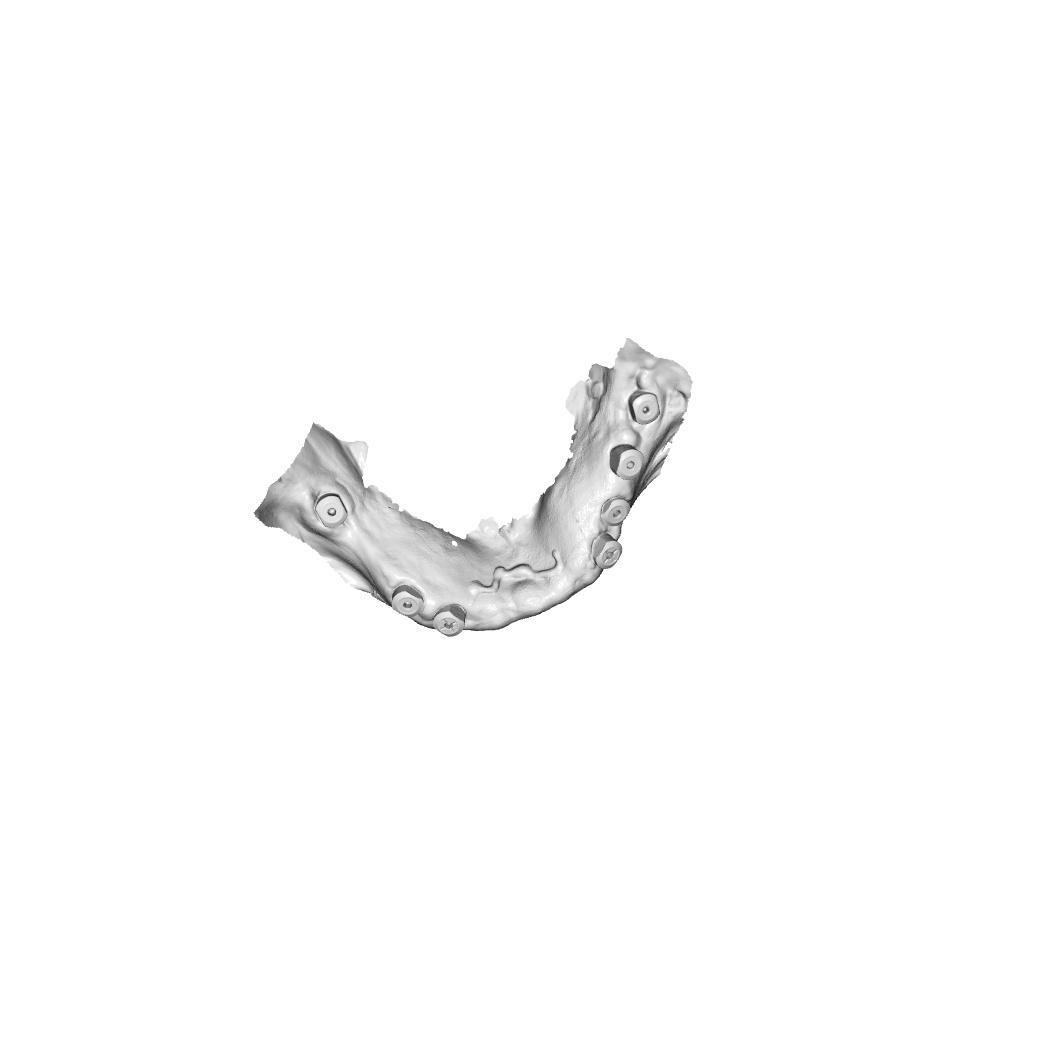implant: (608, 443, 645, 482), (313, 491, 349, 529), (628, 389, 662, 427), (391, 585, 425, 618), (599, 495, 631, 527)
implant_plus: (431, 602, 467, 641), (591, 532, 623, 572)
